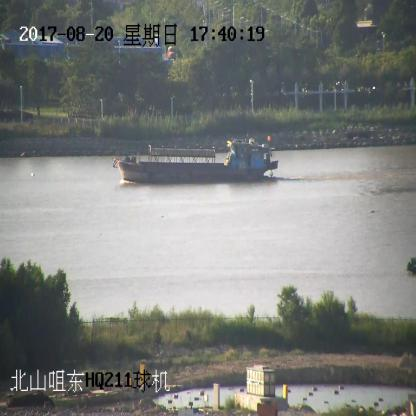Fishing Boat: (113, 134, 279, 181)
